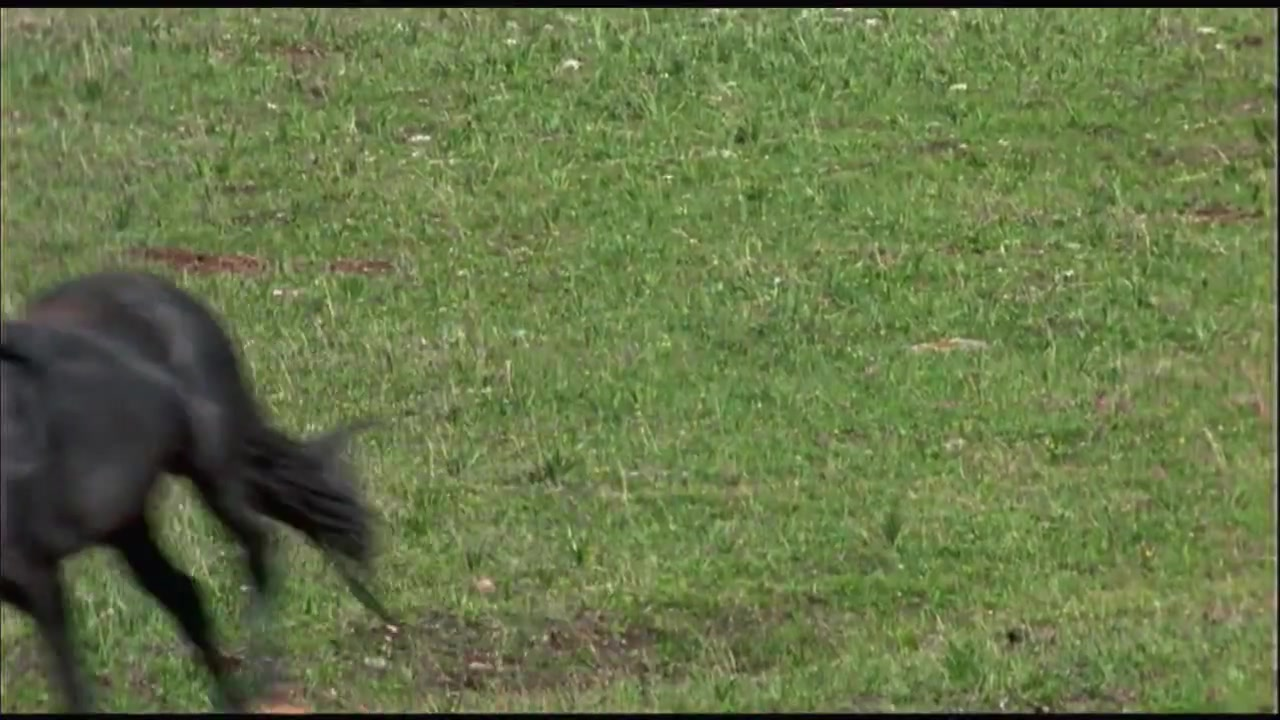horse: (1, 271, 393, 720)
